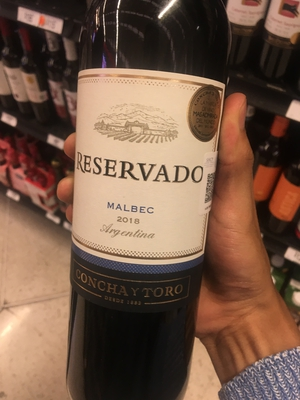reservado malbec: (68, 3, 216, 400)
